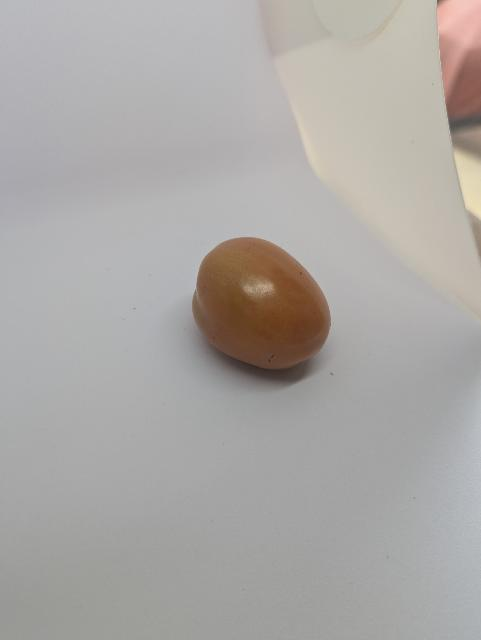turning: (186, 235, 344, 383)
